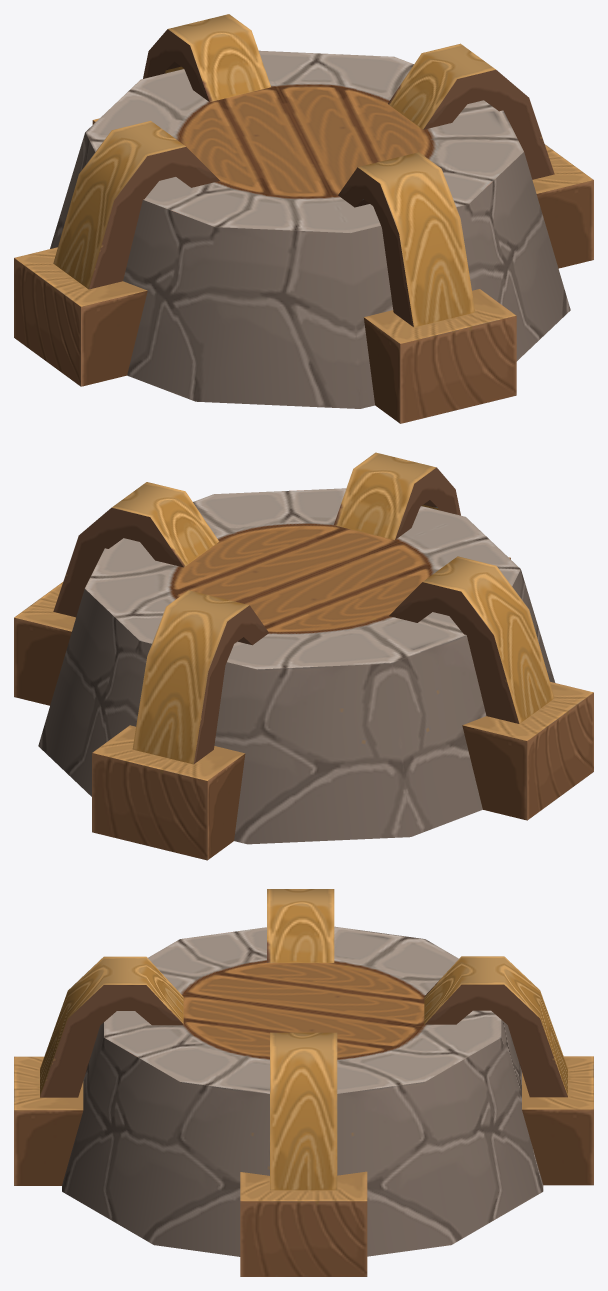
The model's file is The main city_024_LV01.FBX.
3 renders of one model, top to bottom at view 1: azimuth 30°, elevation 25°; view 2: azimuth 150°, elevation 25°; view 3: azimuth 270°, elevation 25°, orthographic. The views are drawn at different scales.
Parts seen in each view (by area): view 1: The main city_024_LV01; view 2: The main city_024_LV01; view 3: The main city_024_LV01.
Boxes of the visible parts, bbox=[...] form: The main city_024_LV01: bbox=[14, 14, 593, 423]; The main city_024_LV01: bbox=[14, 452, 593, 860]; The main city_024_LV01: bbox=[14, 889, 593, 1276].
Bounding box in the file's own units: 27.89 × 10.3 × 28.76.
